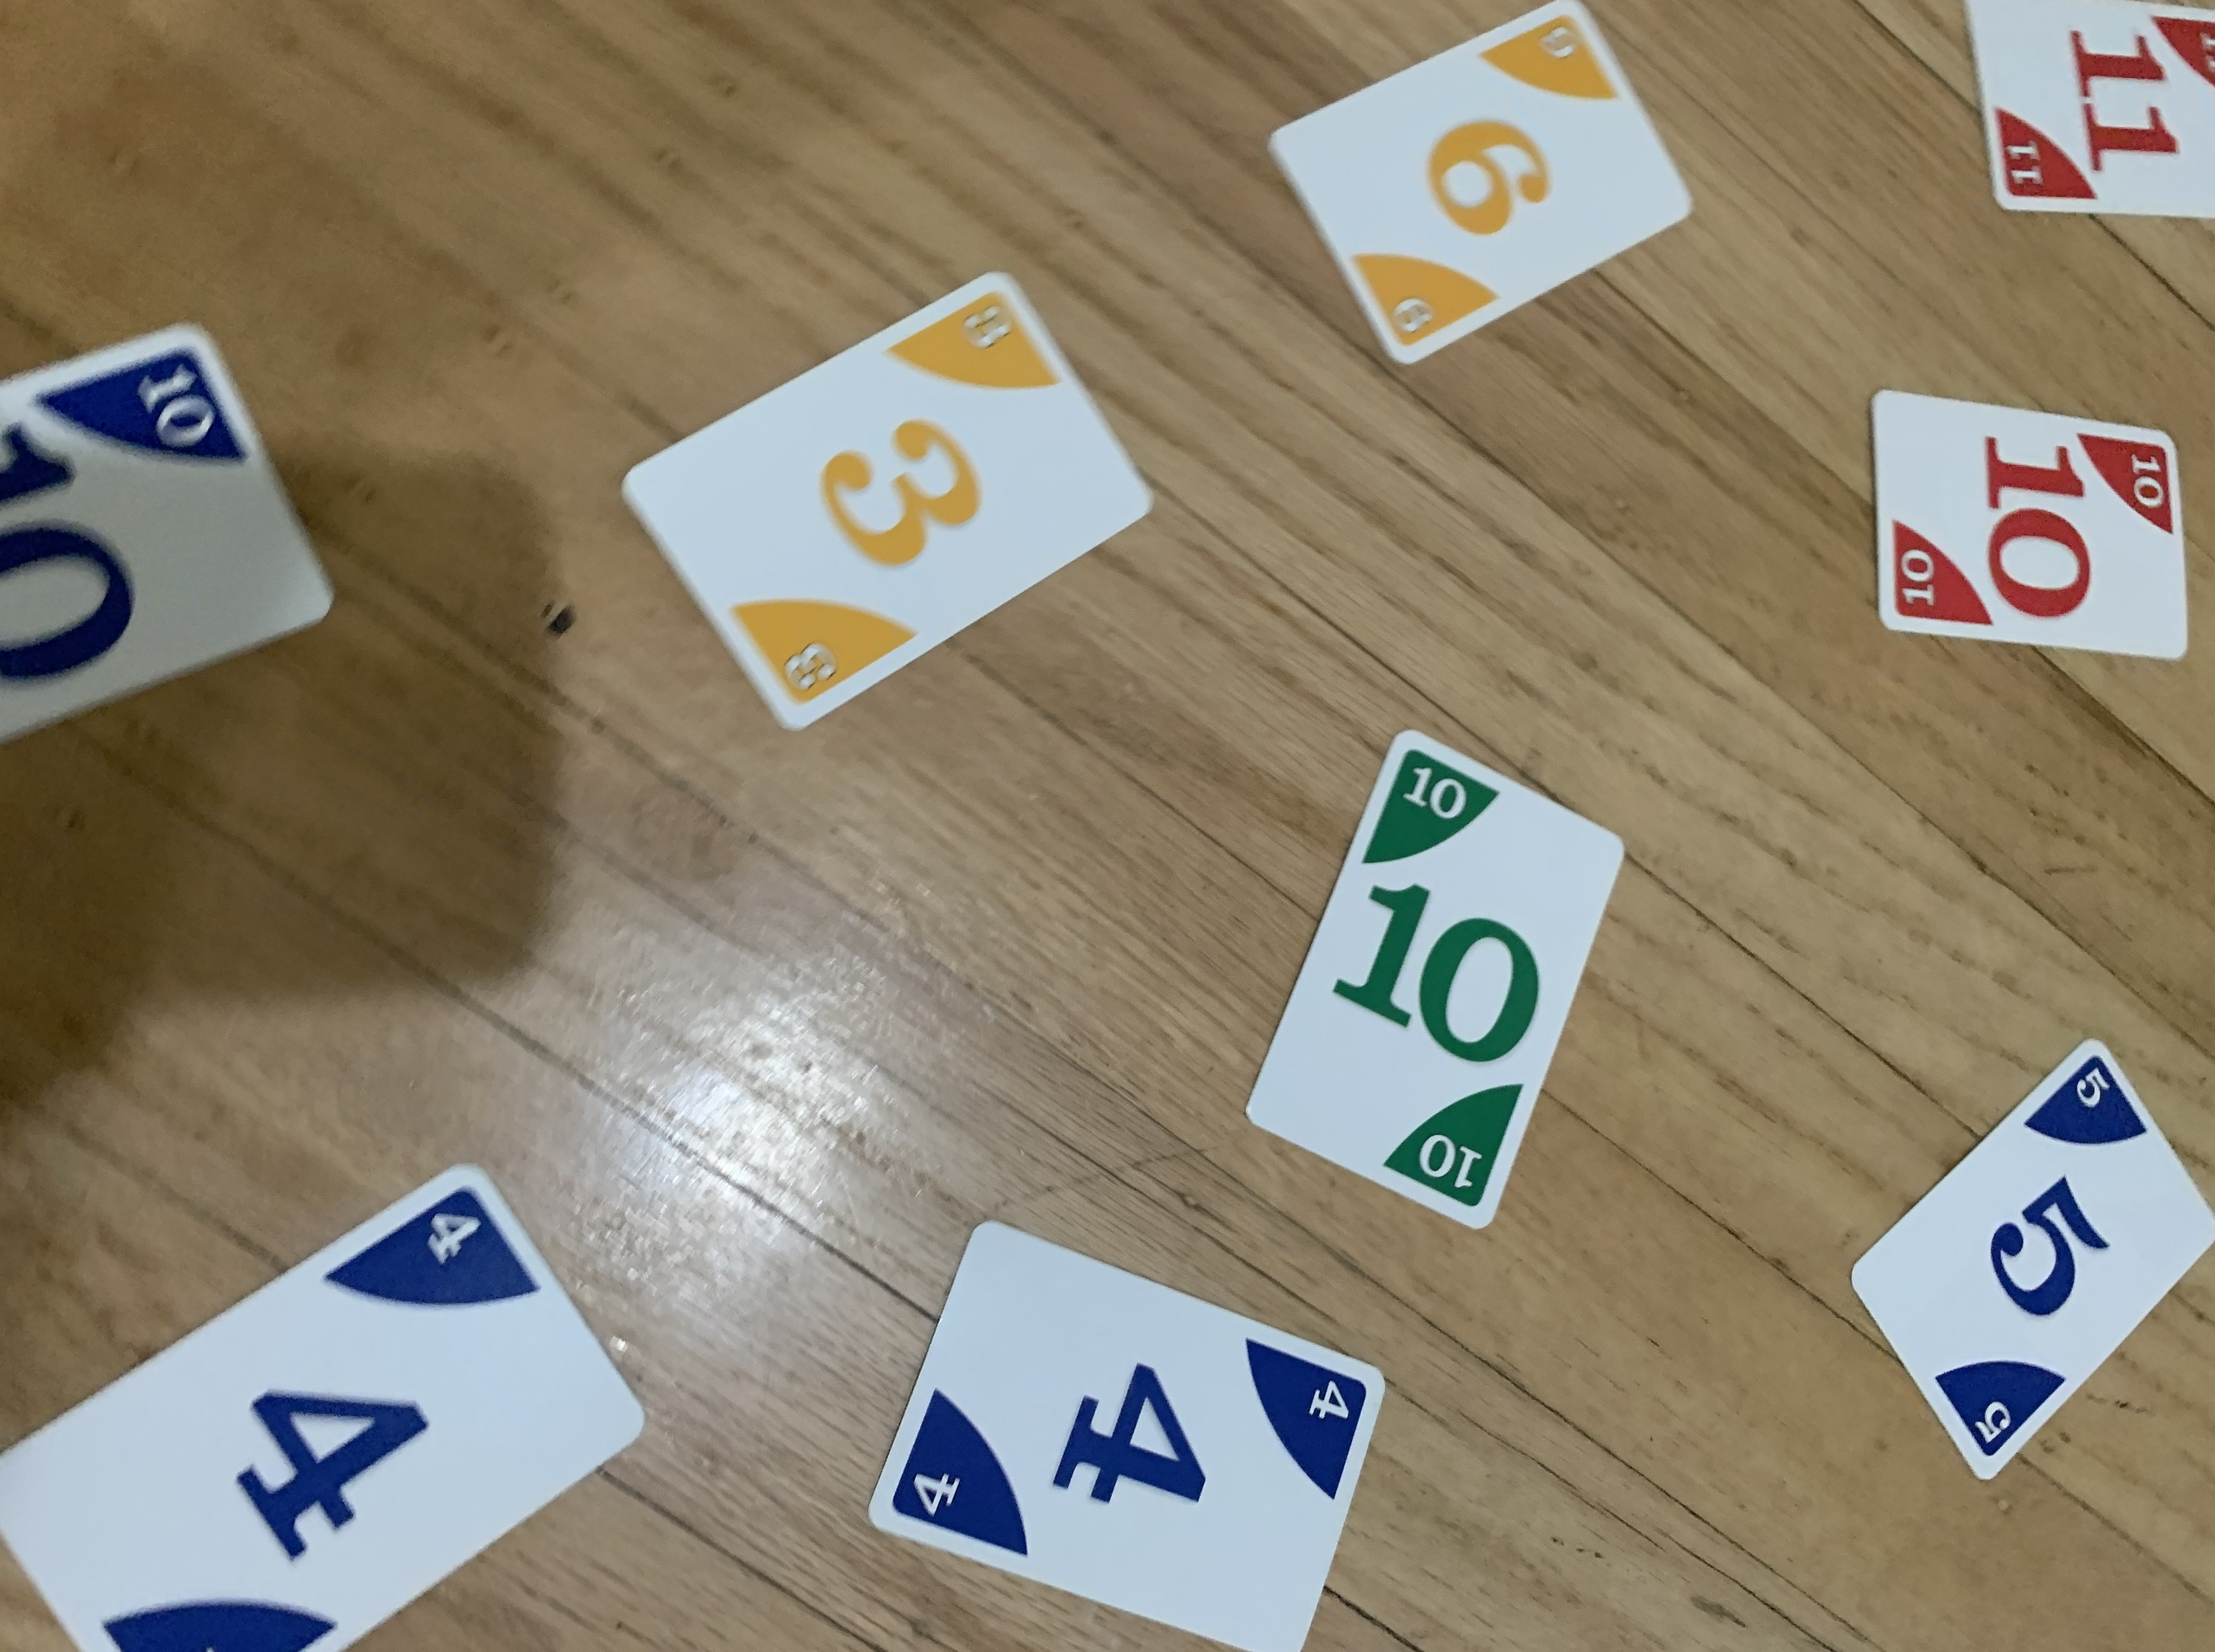five: (1837, 1017, 2212, 1487)
four: (9, 1152, 649, 1652), (864, 1209, 1389, 1652)
six: (1259, 7, 1708, 373)
ten: (1226, 718, 1633, 1234), (1857, 378, 2196, 677)
three: (609, 259, 1163, 743)
